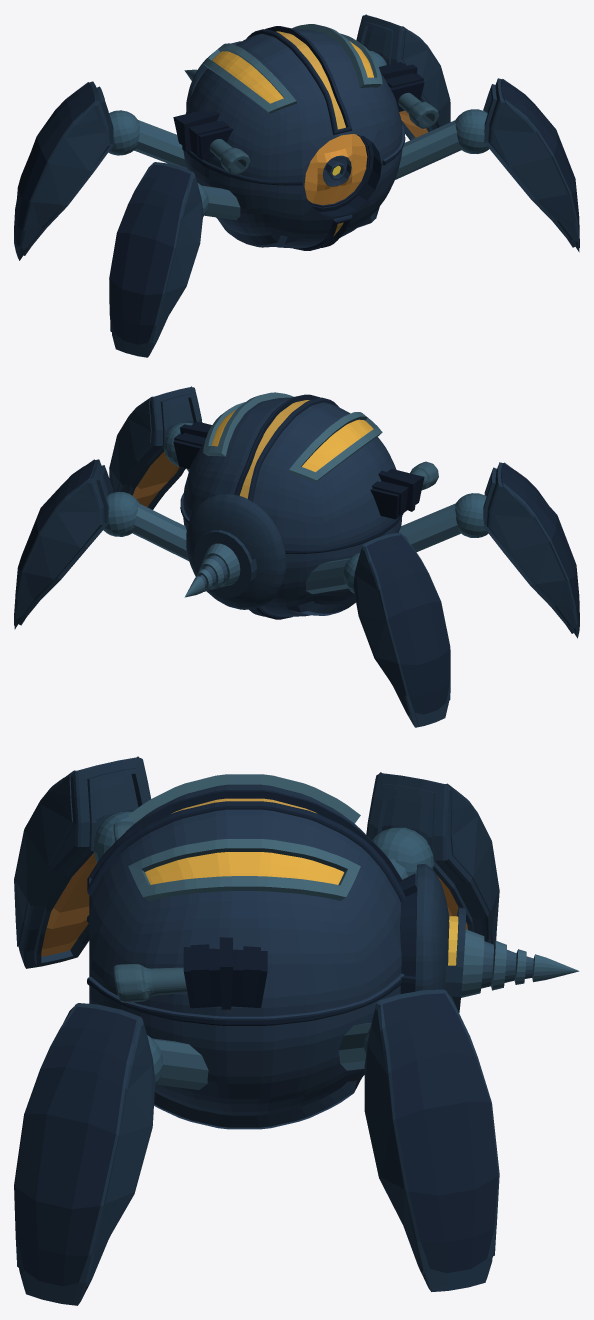
File: cyberarac.glb
The picture shows the model from 3 angles, top to bottom: view 1: azimuth 30°, elevation 25°; view 2: azimuth 150°, elevation 25°; view 3: azimuth 270°, elevation 25°; orthographic projection. The views are drawn at different scales.
Parts seen in each view (by area): view 1: Cube; view 2: Cube; view 3: Cube.
Boxes of the visible parts, bbox=[...] form: Cube: bbox=[14, 14, 579, 357]; Cube: bbox=[14, 386, 579, 727]; Cube: bbox=[14, 756, 579, 1305].
Size of the model in its own units: 960 by 428 by 653.
Materials: 1 (1 with a texture image).
